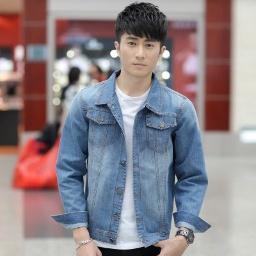face: (113, 1, 165, 77)
